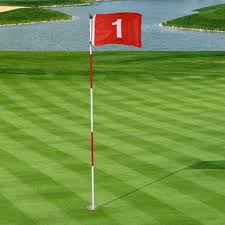Flag: (89, 11, 142, 47)
